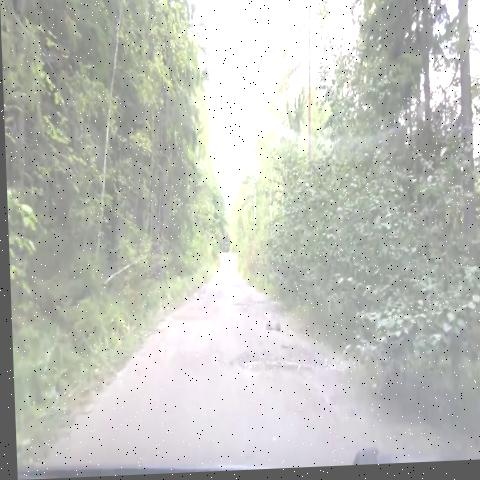pothole: (227, 346, 320, 391), (164, 310, 209, 335), (225, 294, 255, 322), (249, 293, 277, 316), (188, 289, 208, 308), (223, 279, 247, 293)
